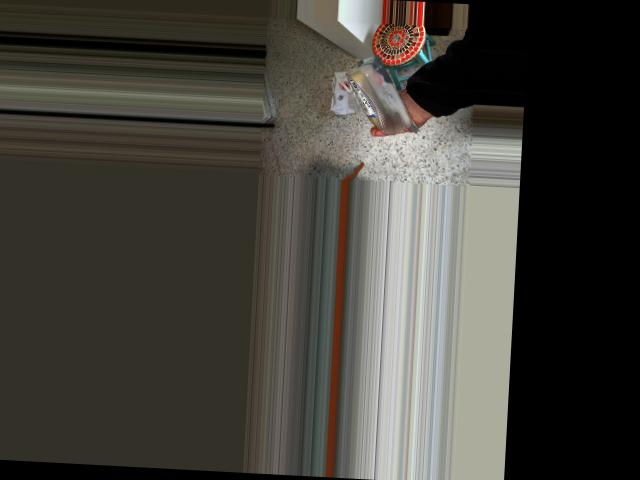cheese: (320, 30, 429, 144)
